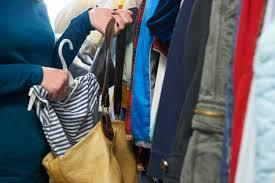shoplifting: (11, 1, 160, 168)
